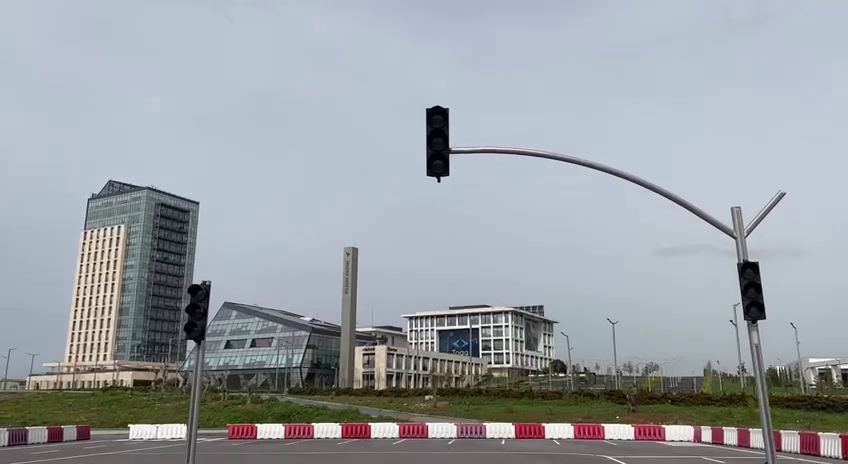trafficLight: (421, 100, 455, 185), (734, 257, 769, 326), (180, 278, 214, 345)
